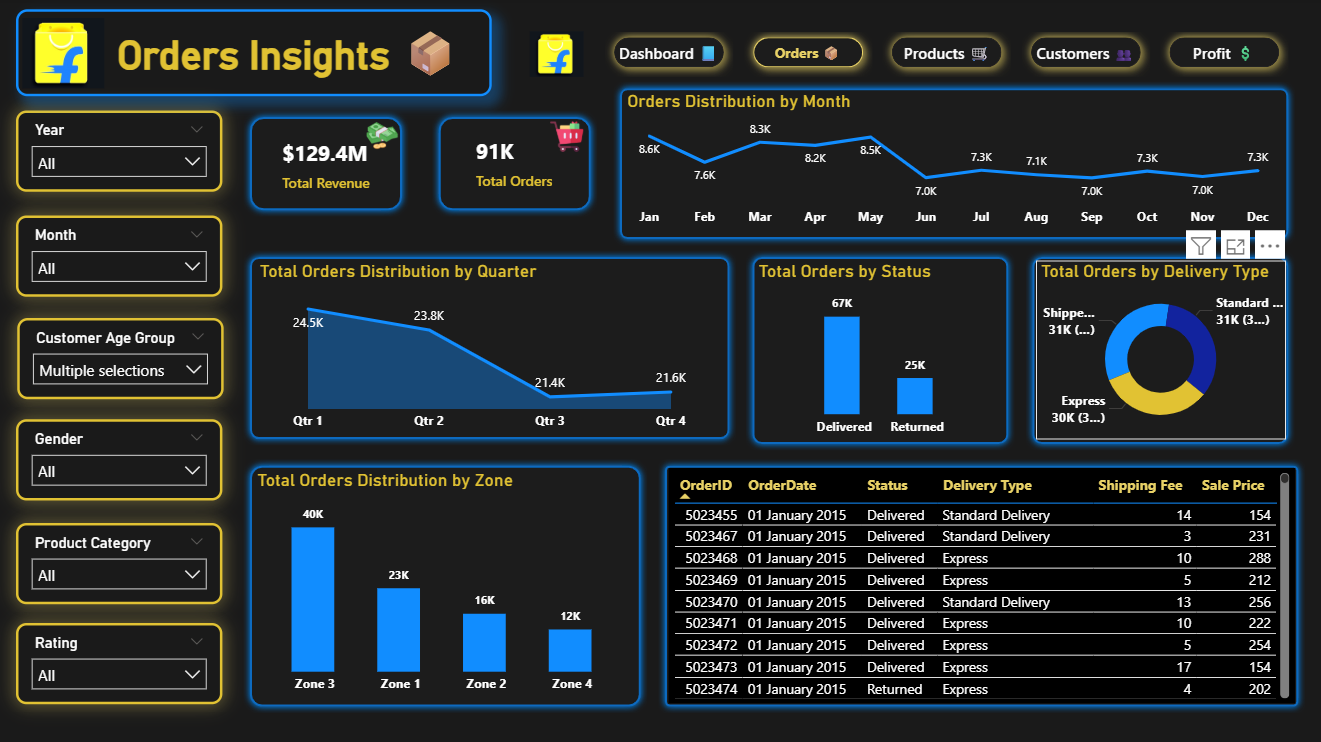

Layout of this report page (visuals, bound fields, positions):
{"tool":"powerbi","page":{"name":"Orders 📦","canvas":[1280,720],"ordinal":2},"visuals":[{"type":"shape","box":[596,80.8,657.5,158],"z":0},{"type":"shape","box":[994.1,243.7,259.4,193],"z":1000},{"type":"shape","box":[723.9,243.7,259.4,193],"z":2000},{"type":"shape","box":[238.9,445.2,389.7,244.9],"z":3000},{"type":"shape","box":[238.9,243.7,475.3,188.2],"z":4000},{"type":"slicer","fields":{"Values":["Data.Year"]},"box":[19.3,108.6,199.1,78.4],"z":6000},{"type":"slicer","fields":{"Values":["Data.Month"]},"box":[19.3,209.9,199.1,78.4],"z":7000},{"type":"slicer","fields":{"Values":["Data.Age Group"]},"box":[20.5,308.8,199.1,78.4],"z":8000},{"type":"slicer","fields":{"Values":["Data.Customer Gender"]},"box":[19.3,406.6,199.1,78.4],"z":9000},{"type":"slicer","fields":{"Values":["Data.Product Category"]},"box":[19.3,506.7,199.1,78.4],"z":10000},{"type":"slicer","fields":{"Values":["Data.Rating"]},"box":[19.3,603.2,199.1,78.4],"z":11000},{"type":"shape","box":[639.4,445.2,623.7,244.9],"z":12000},{"type":"clusteredColumnChart","fields":{"Y":["_Measures.Total Orders"],"Category":["Data.Status"]},"box":[731.1,253.4,246.1,178.6],"z":14000},{"type":"donutChart","fields":{"Category":["Data.Delivery Type"],"Y":["_Measures.Total Orders"]},"box":[1003.8,253.4,241,172],"z":15000},{"type":"lineChart","title":" Orders Distribution by Month","fields":{"Y":["_Measures.Total Orders"],"Category":["Data.Short Month"]},"box":[604.4,89.3,640,140],"z":16000},{"type":"areaChart","title":"Total Orders Distribution by Quarter","fields":{"Category":["Data.OrderDate.Variation.Date Hierarchy.Quarter"],"Y":["_Measures.Total Orders"]},"box":[249.7,253.4,453.6,172.5],"z":17000},{"type":"clusteredColumnChart","title":"Total Orders Distribution by Zone","fields":{"Category":["Data.Zone"],"Y":["_Measures.Total Orders"]},"box":[247.3,454.8,370,225.6],"z":18000},{"type":"tableEx","fields":{"Values":["Data.OrderID","Data.OrderDate","Data.Status","Data.Delivery Type","Data.Shipping Fee","Data.Sale Price"]},"box":[649.1,453.6,604.4,227],"z":19000},{"type":"shape","box":[238.9,108.6,159.3,102.5],"z":20000},{"type":"cardVisual","fields":{"Data":["_Measures.Total Revenue"]},"box":[247.3,113.4,146,95.3],"z":21000},{"type":"shape","box":[421,108.6,159.3,102.5],"z":22000},{"type":"cardVisual","fields":{"Data":["_Measures.Total Orders"]},"box":[434.3,117,136.3,85.7],"z":23000},{"type":"pageNavigator","box":[587.8,29.3,661.8,47.5],"z":23001},{"type":"textbox","box":[19.5,11.2,459.3,83.8],"z":23002},{"type":"image","box":[25.1,16.8,79.6,72.6],"z":23003},{"type":"image","box":[515.2,23.7,51.7,60],"z":23004},{"type":"actionButton","box":[515.2,29.3,51.7,54.5],"z":23005}]}

Visuals, with their boxes in screenshot pixels (x1, y1, x2, y2), scaled from the page's 1280x720 canvas onto the 1321x742 screenshot:
shape: l=615, t=83, r=1294, b=246
shape: l=1026, t=251, r=1294, b=450
shape: l=747, t=251, r=1015, b=450
shape: l=247, t=459, r=649, b=711
shape: l=247, t=251, r=737, b=445
slicer - Data.Year: l=20, t=112, r=225, b=193
slicer - Data.Month: l=20, t=216, r=225, b=297
slicer - Data.Age Group: l=21, t=318, r=227, b=399
slicer - Data.Customer Gender: l=20, t=419, r=225, b=500
slicer - Data.Product Category: l=20, t=522, r=225, b=603
slicer - Data.Rating: l=20, t=622, r=225, b=702
shape: l=660, t=459, r=1304, b=711
clusteredColumnChart - _Measures.Total Orders x Data.Status: l=755, t=261, r=1009, b=445
donutChart - Data.Delivery Type x _Measures.Total Orders: l=1036, t=261, r=1285, b=438
" Orders Distribution by Month" lineChart: l=624, t=92, r=1284, b=236
"Total Orders Distribution by Quarter" areaChart: l=258, t=261, r=726, b=439
"Total Orders Distribution by Zone" clusteredColumnChart: l=255, t=469, r=637, b=701
tableEx - Data.OrderID x Data.OrderDate: l=670, t=467, r=1294, b=701
shape: l=247, t=112, r=411, b=218
cardVisual - _Measures.Total Revenue: l=255, t=117, r=406, b=215
shape: l=434, t=112, r=599, b=218
cardVisual - _Measures.Total Orders: l=448, t=121, r=589, b=209
pageNavigator: l=607, t=30, r=1290, b=79
textbox: l=20, t=12, r=494, b=98
image: l=26, t=17, r=108, b=92
image: l=532, t=24, r=585, b=86
actionButton: l=532, t=30, r=585, b=86
